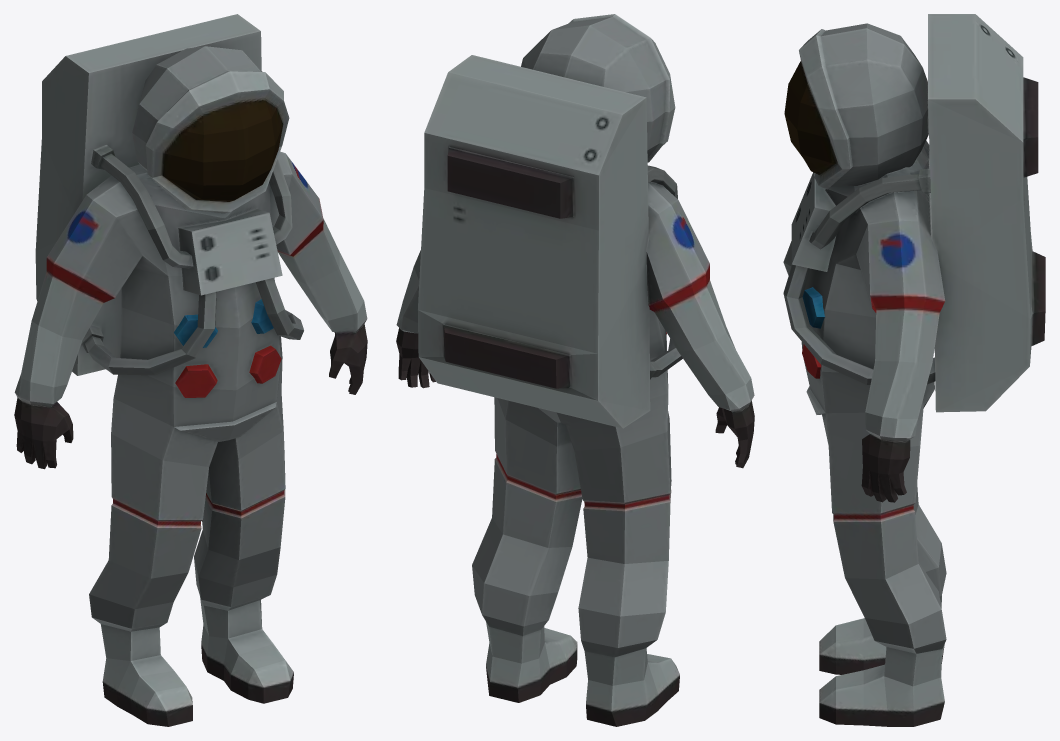
Rendered from hero-astronaut.glb.
3 renders of one model, left to right at view 1: azimuth 30°, elevation 25°; view 2: azimuth 150°, elevation 25°; view 3: azimuth 270°, elevation 25°, orthographic.
Parts seen in each view (by area): view 1: node-0; view 2: node-0; view 3: node-0.
Boxes of the visible parts, x1,y1,x2,y2 form: node-0: [14, 14, 367, 726]; node-0: [396, 14, 754, 726]; node-0: [783, 14, 1045, 726].
Size of the model in its own units: 1.12 by 2.01 by 0.7236.
Materials: 1 (1 with a texture image).
